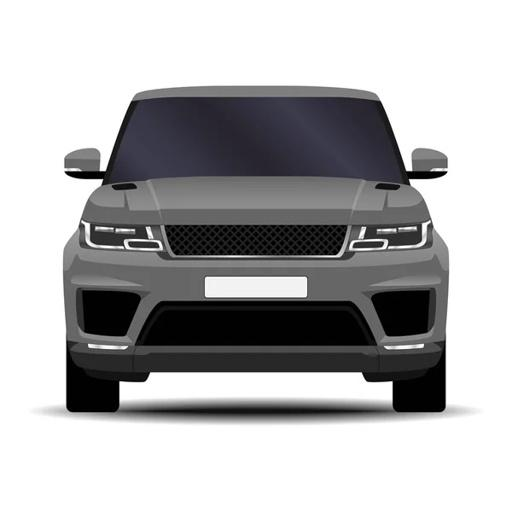suv: (64, 86, 447, 409)
